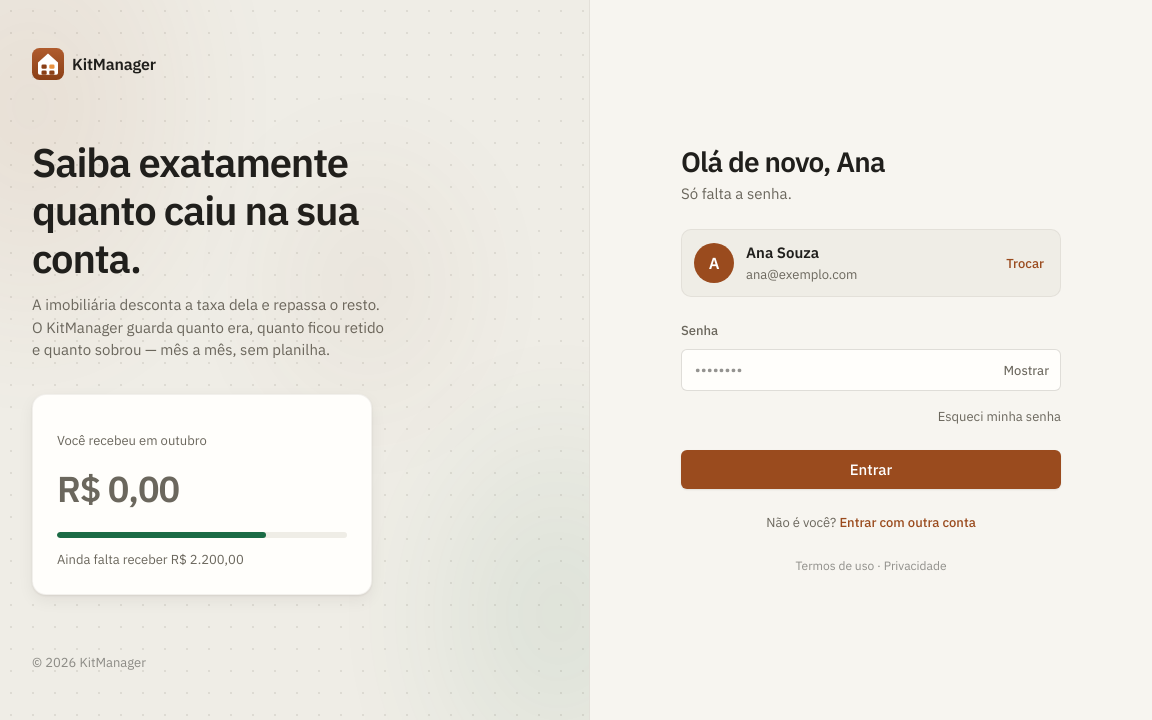
Scenario: Login com perfil lembrado › "Trocar" devolve o formulário completo e esquece o perfil
Click the button "Trocar" at coordinates (1025, 263), box left=998, top=243, right=1052, bottom=284
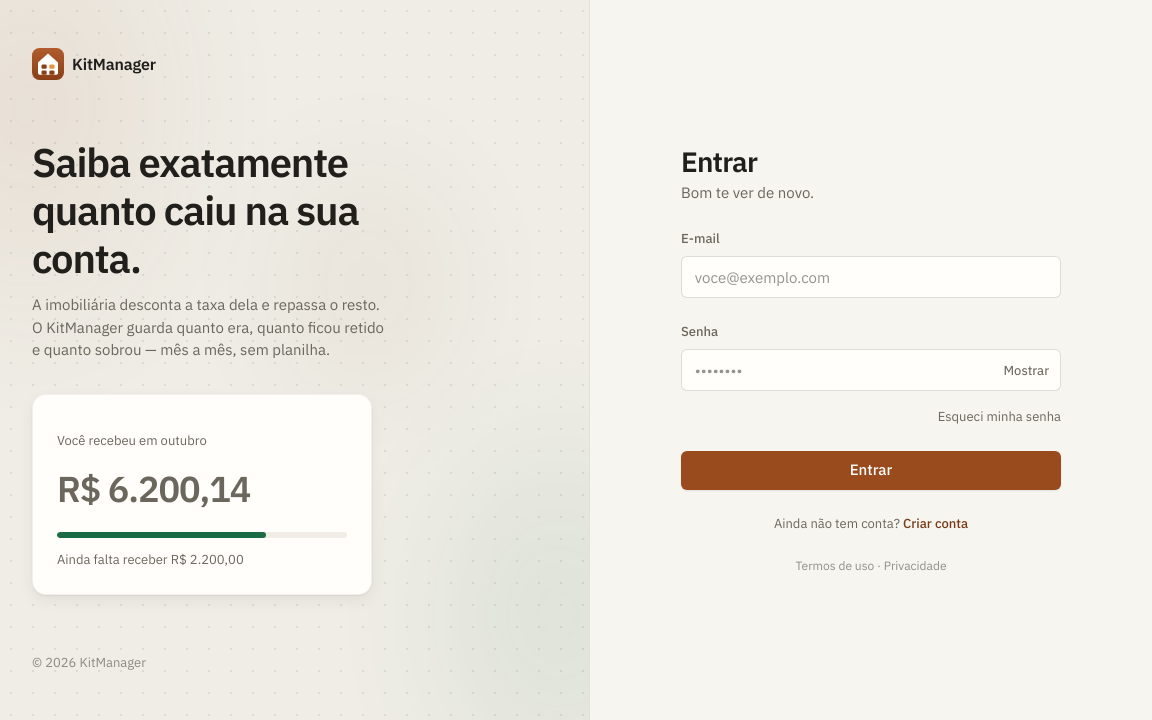
Expected: the field labelled "E-mail" is shown, left=681, top=256, right=1061, bottom=298
Expected: the text "ana@exemplo.com" is gone
